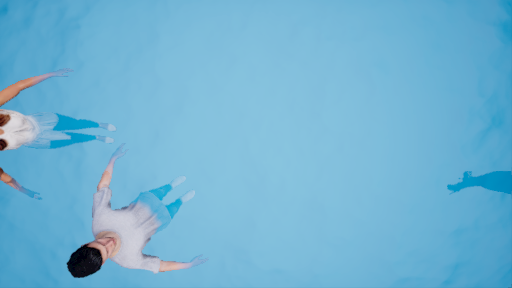person: (67, 151, 207, 274), (1, 67, 122, 201)
